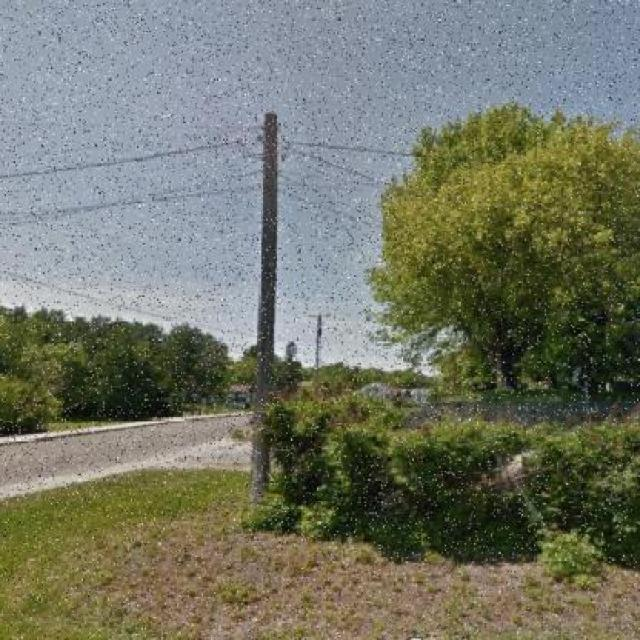pole: (183, 56, 332, 533)
